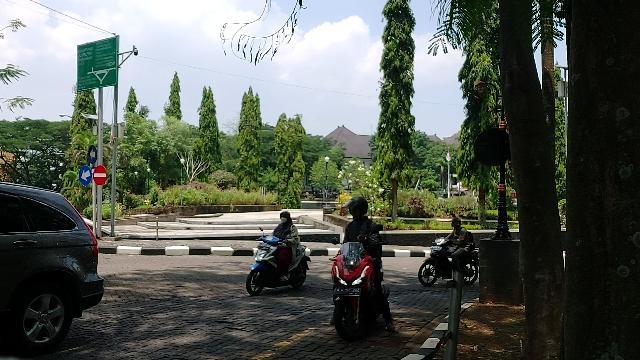helm: (343, 197, 370, 220)
motor: (328, 224, 392, 344), (246, 227, 312, 298), (419, 233, 480, 290)
non-helm: (280, 212, 292, 225), (452, 219, 463, 232)
